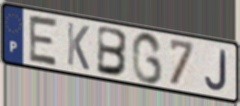7: (168, 37, 195, 88)
B: (95, 24, 130, 79)
E: (27, 13, 60, 68)
G: (131, 31, 164, 86)
J: (203, 48, 229, 93)
K: (66, 19, 91, 72)
